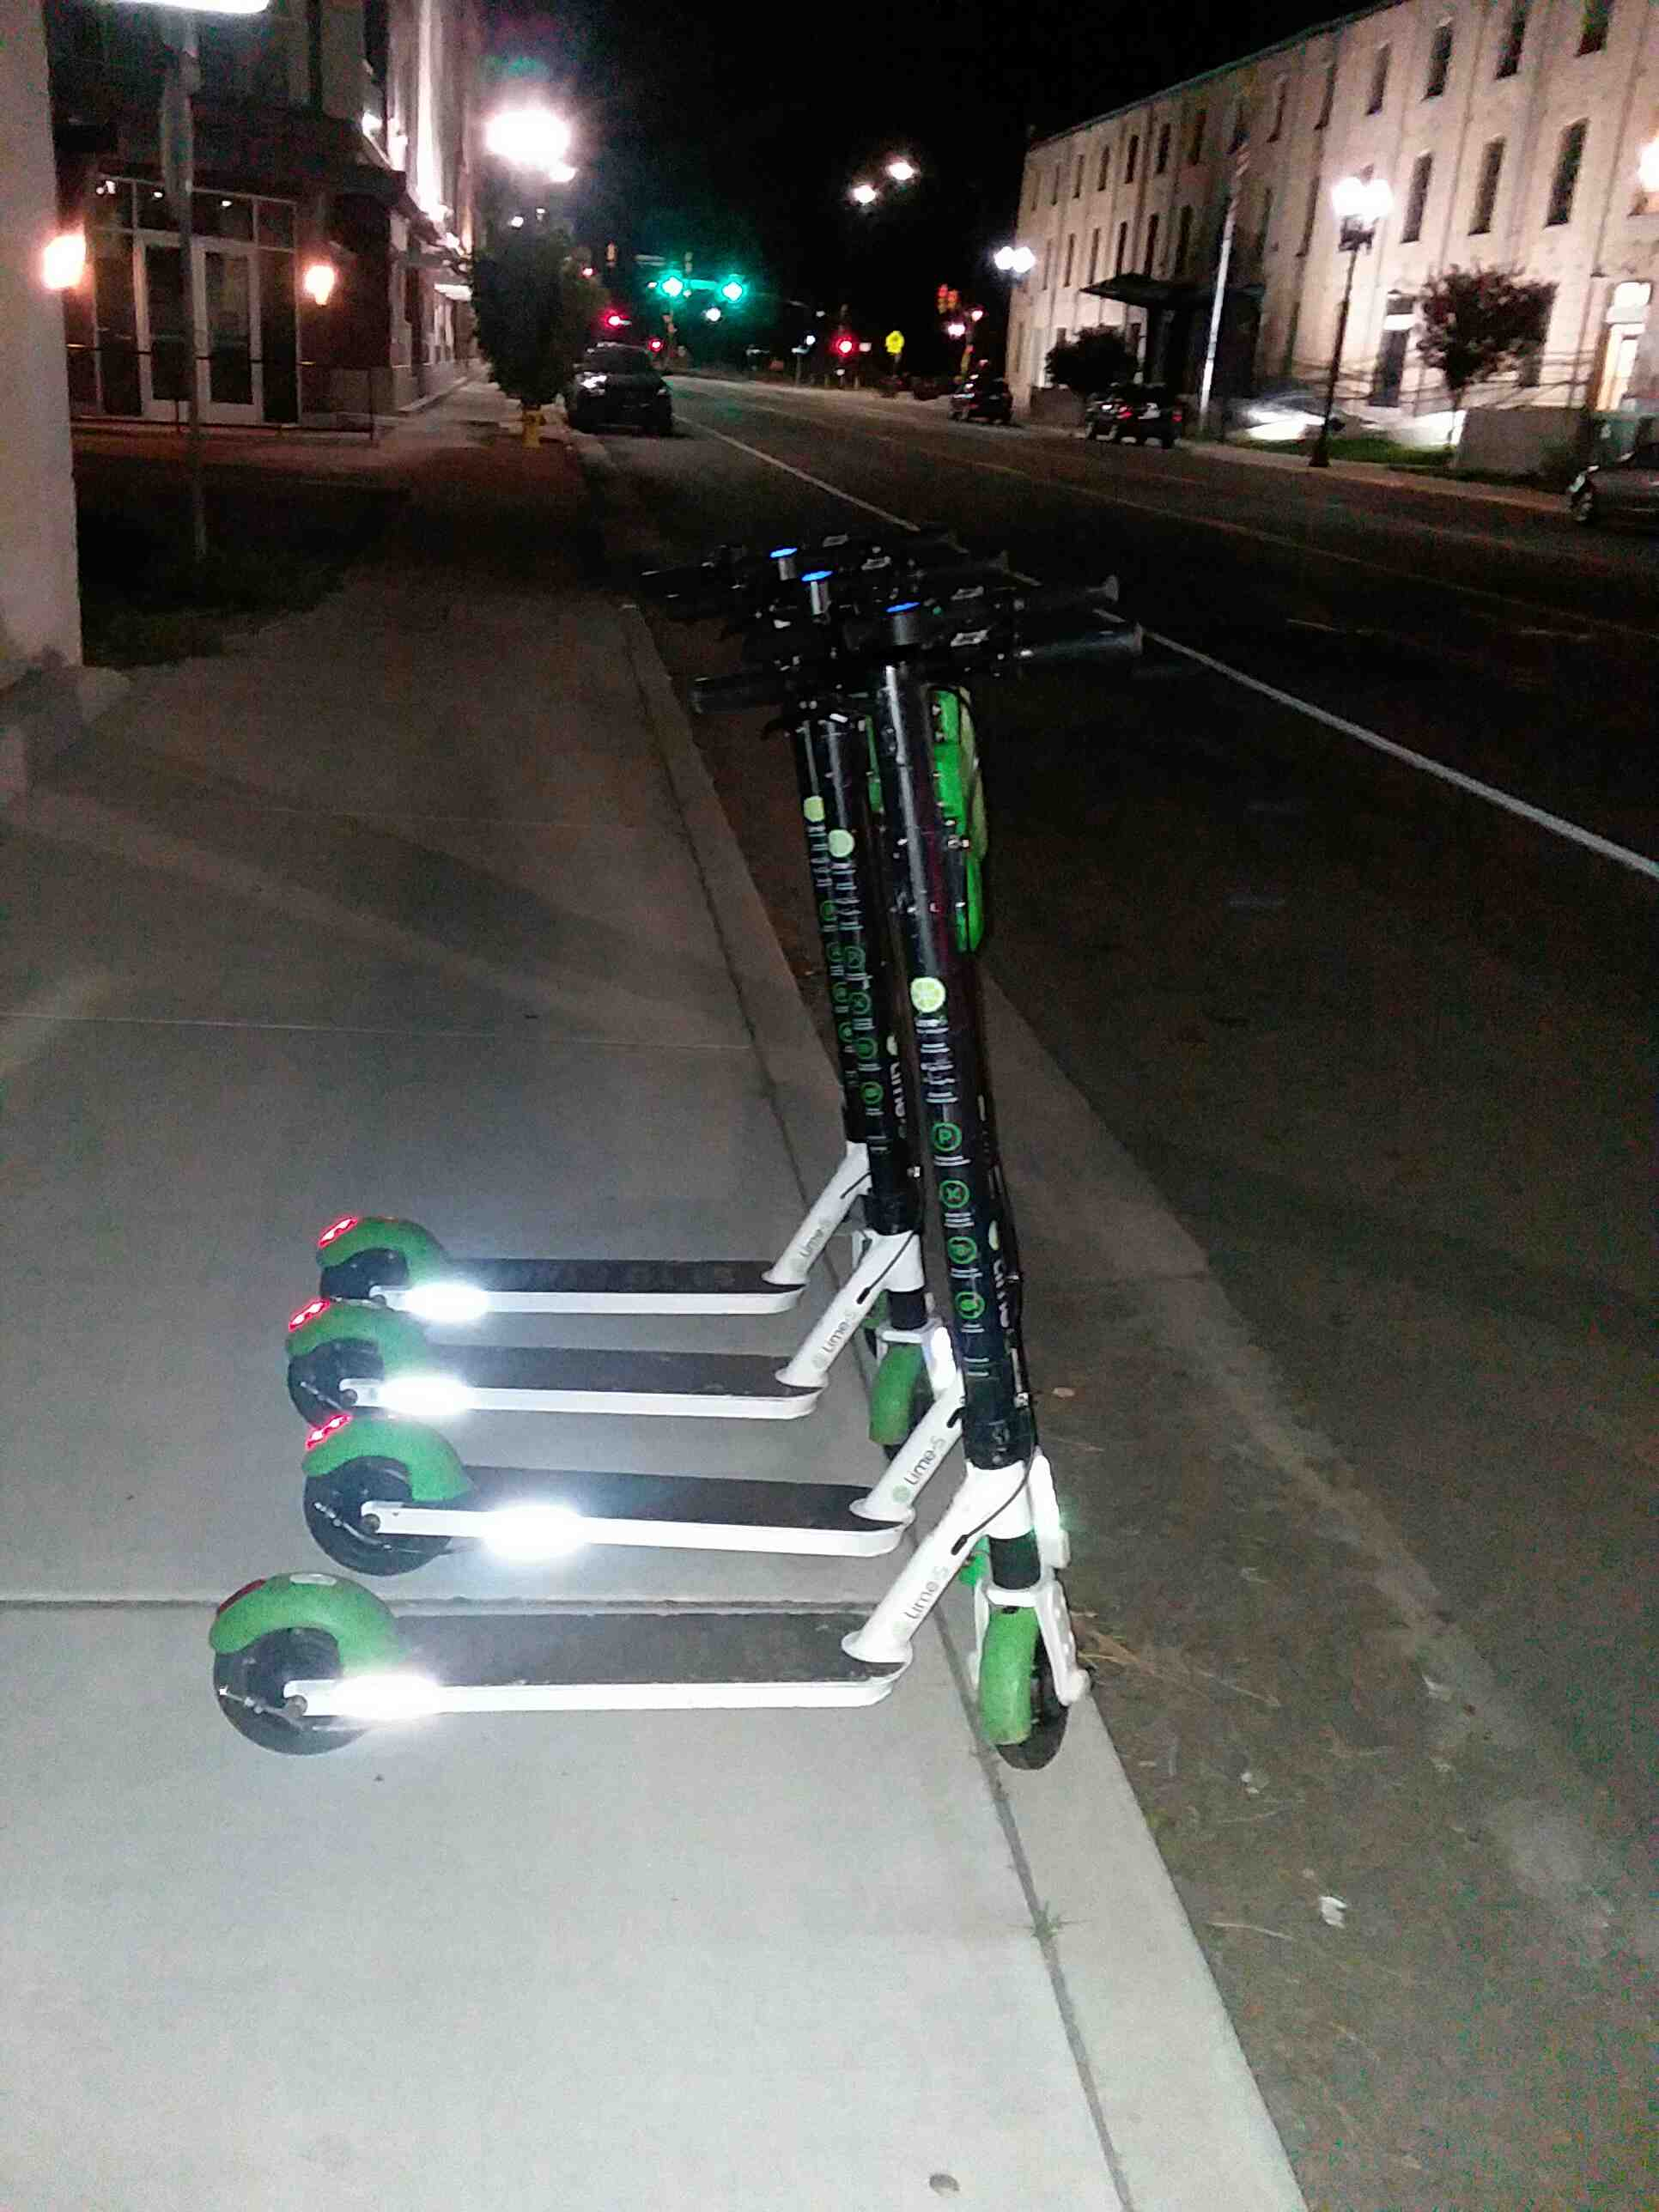too close: (875, 1561, 1162, 1803)
